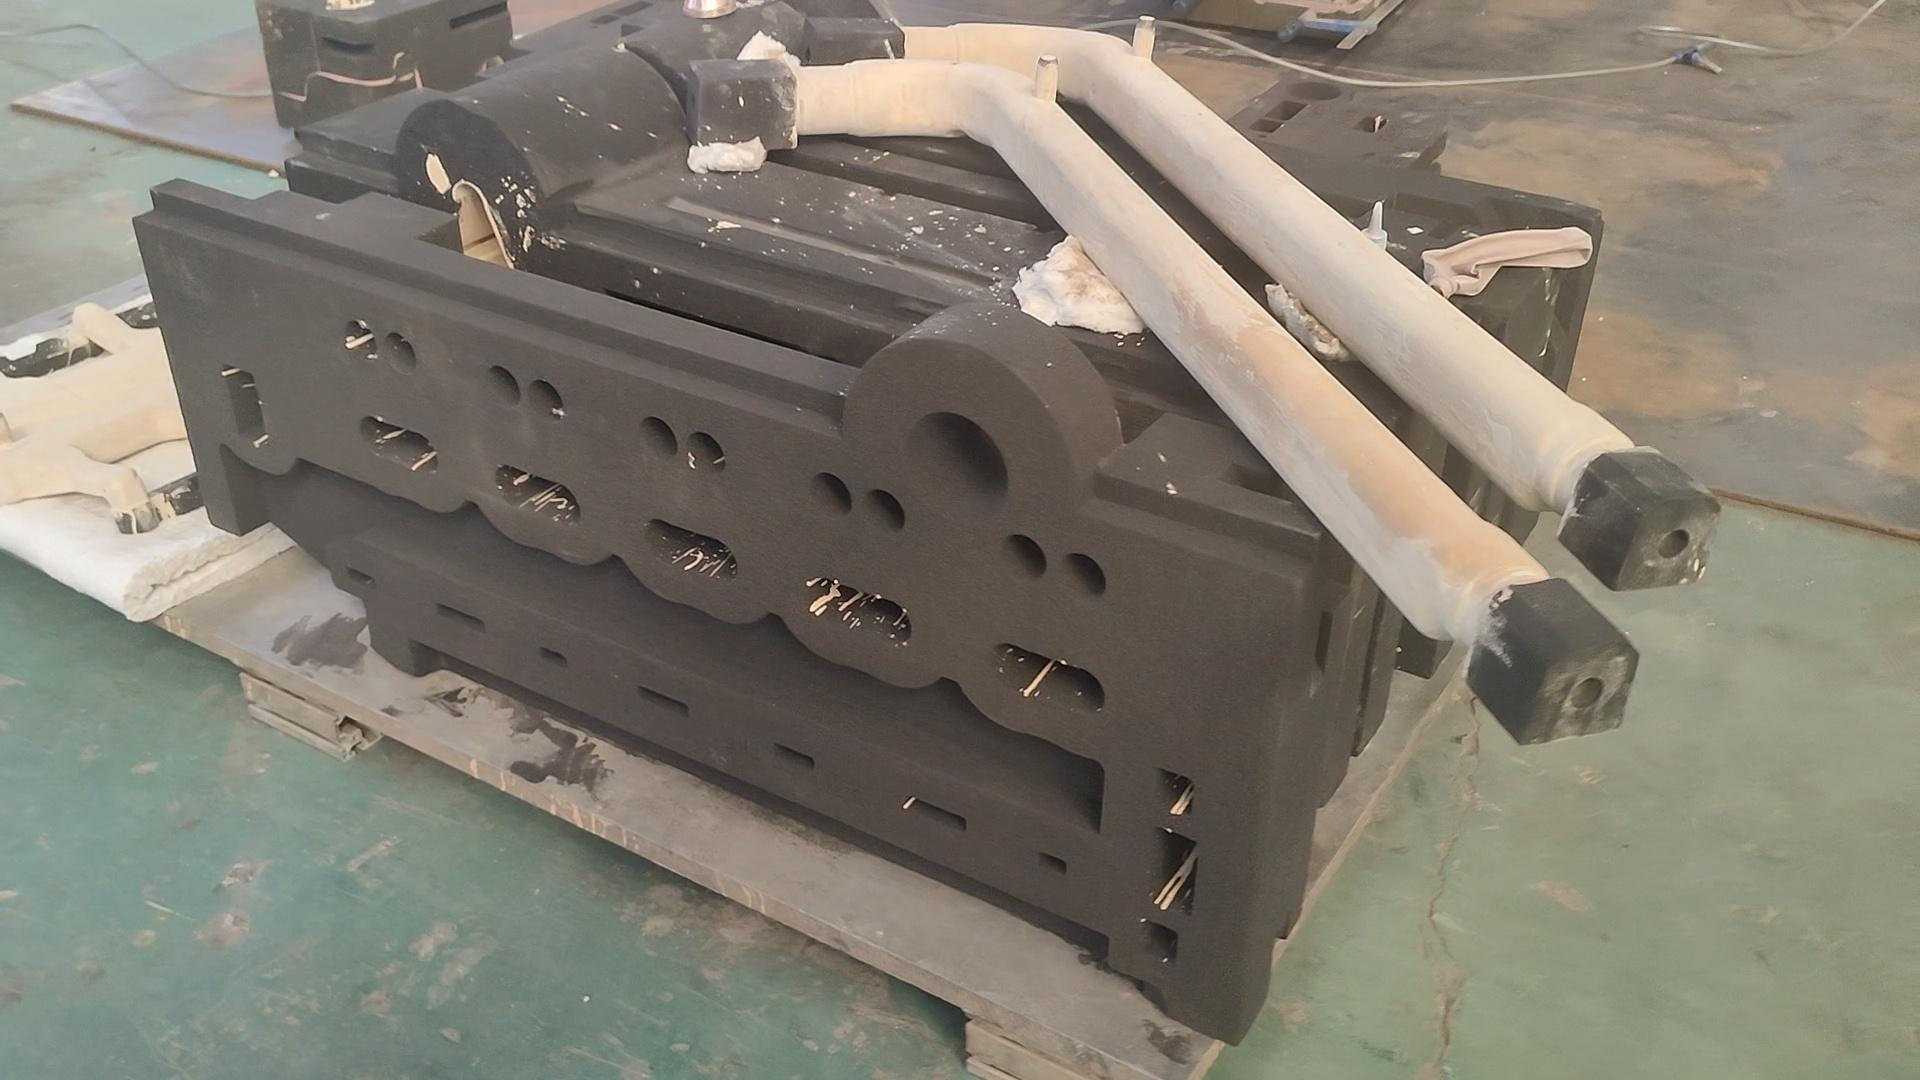pouring hole: (902, 411, 1010, 524), (1286, 80, 1340, 100)
